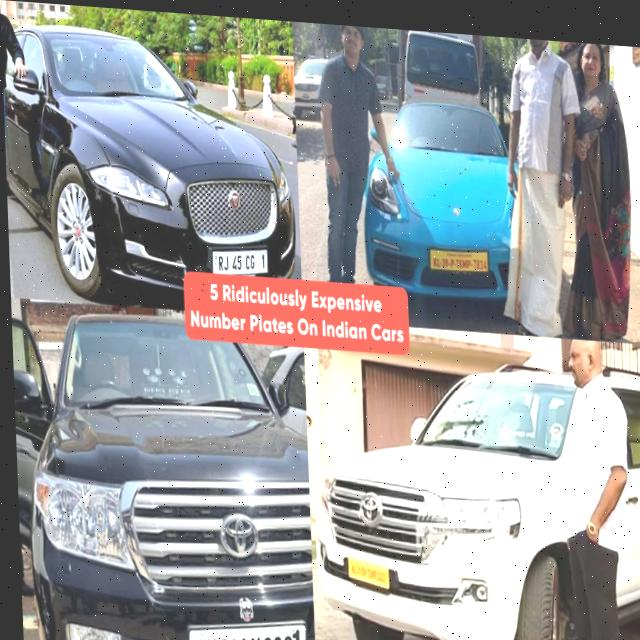plate: (181, 609, 302, 640), (208, 240, 267, 274), (426, 239, 487, 267), (341, 550, 389, 585)
